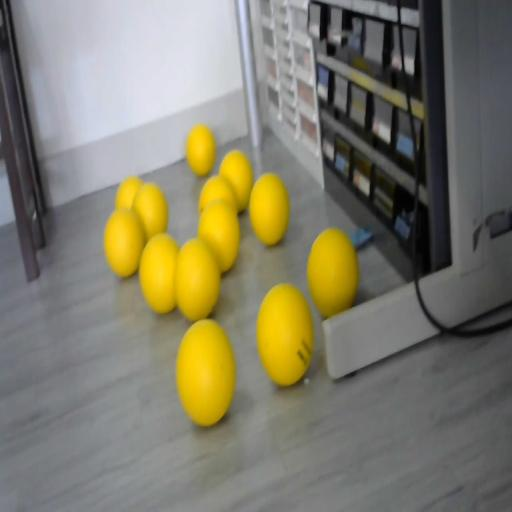FUEL: (176, 318, 235, 424), (255, 281, 314, 385), (307, 227, 359, 318), (139, 232, 180, 313), (197, 199, 241, 273), (248, 172, 290, 246), (104, 208, 146, 278), (219, 150, 254, 211), (186, 124, 216, 176), (115, 176, 144, 212)
